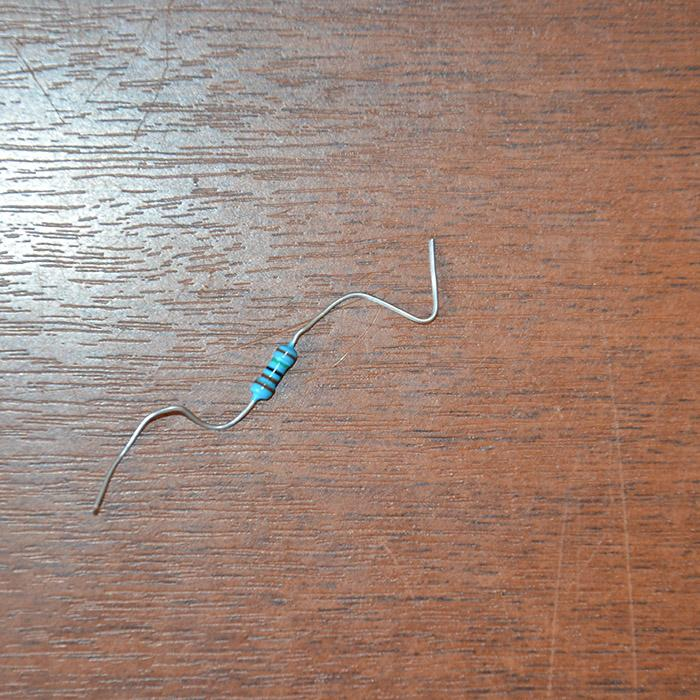resistor: (250, 343, 297, 401)
